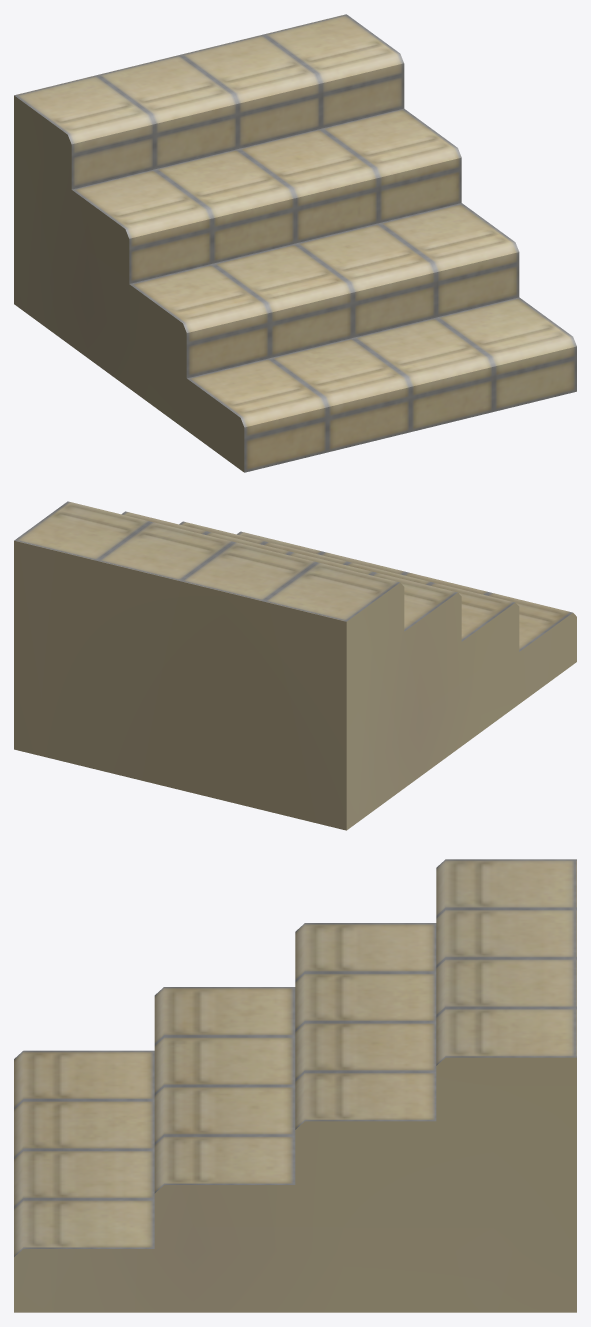
The model's file is set_floor_03b_03_stairs.fbx.
3 views of the same model, one above another, from view 1: azimuth 30°, elevation 25°; view 2: azimuth 150°, elevation 25°; view 3: azimuth 270°, elevation 25° (orthographic). The views are drawn at different scales.
Visible parts, largest first — view 1: set_floor_03b_03_stairs; view 2: set_floor_03b_03_stairs; view 3: set_floor_03b_03_stairs.
Boxes of the visible parts, x1,y1,x2,y2 form: set_floor_03b_03_stairs: [14, 14, 576, 472]; set_floor_03b_03_stairs: [14, 501, 576, 830]; set_floor_03b_03_stairs: [14, 859, 576, 1312].
Bounding box in the file's own units: 100 × 60 × 120.
